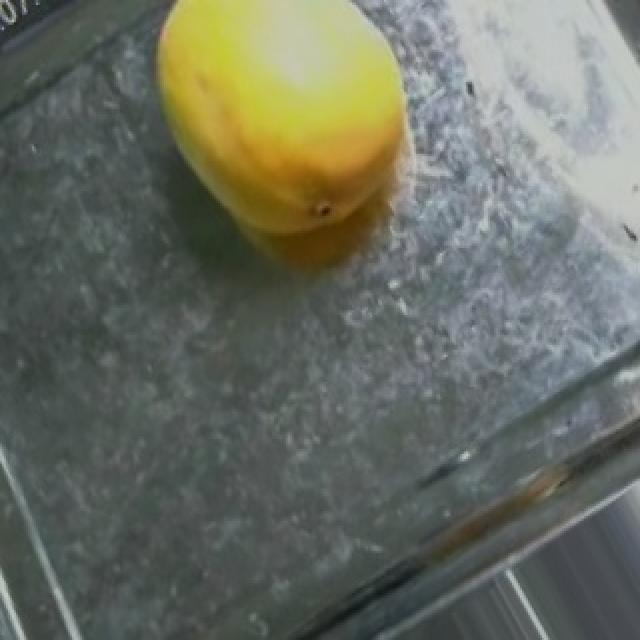fruit: (120, 2, 476, 283)
